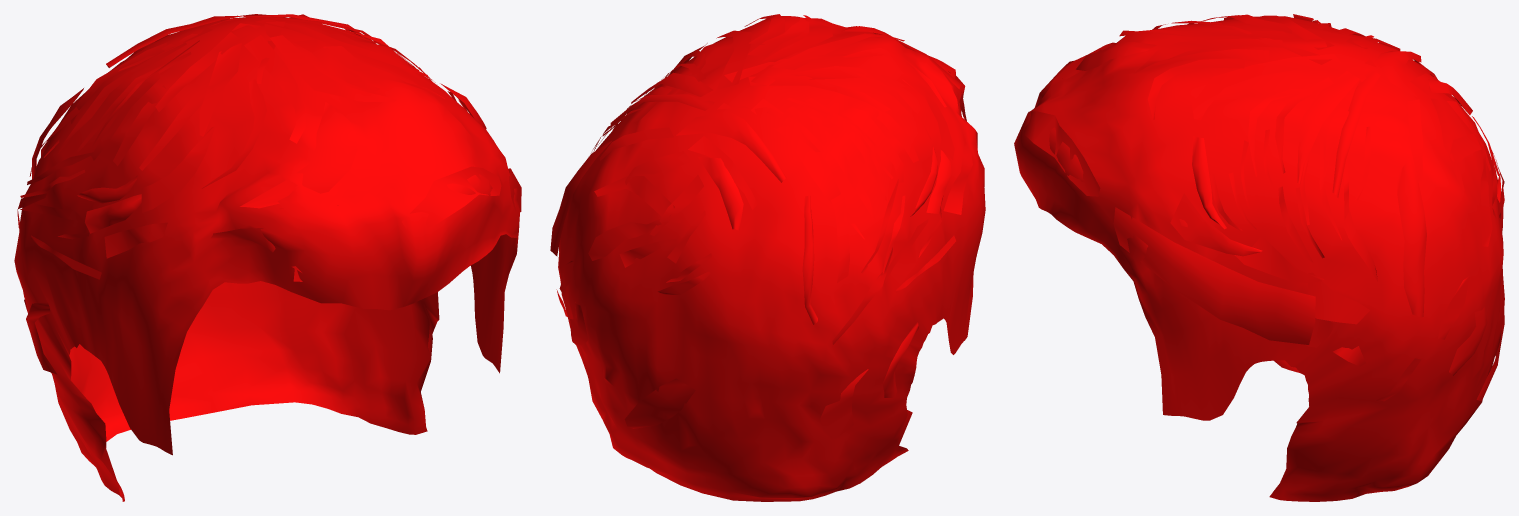
Rendered from culturalibre_hair_02_F.glb.
3 renders of one model, left to right at view 1: azimuth 30°, elevation 25°; view 2: azimuth 150°, elevation 25°; view 3: azimuth 270°, elevation 25°, orthographic. The views are drawn at different scales.
Bounding box in the file's own units: 0.1739 × 0.1823 × 0.1998.
1 material, 1 textured.
